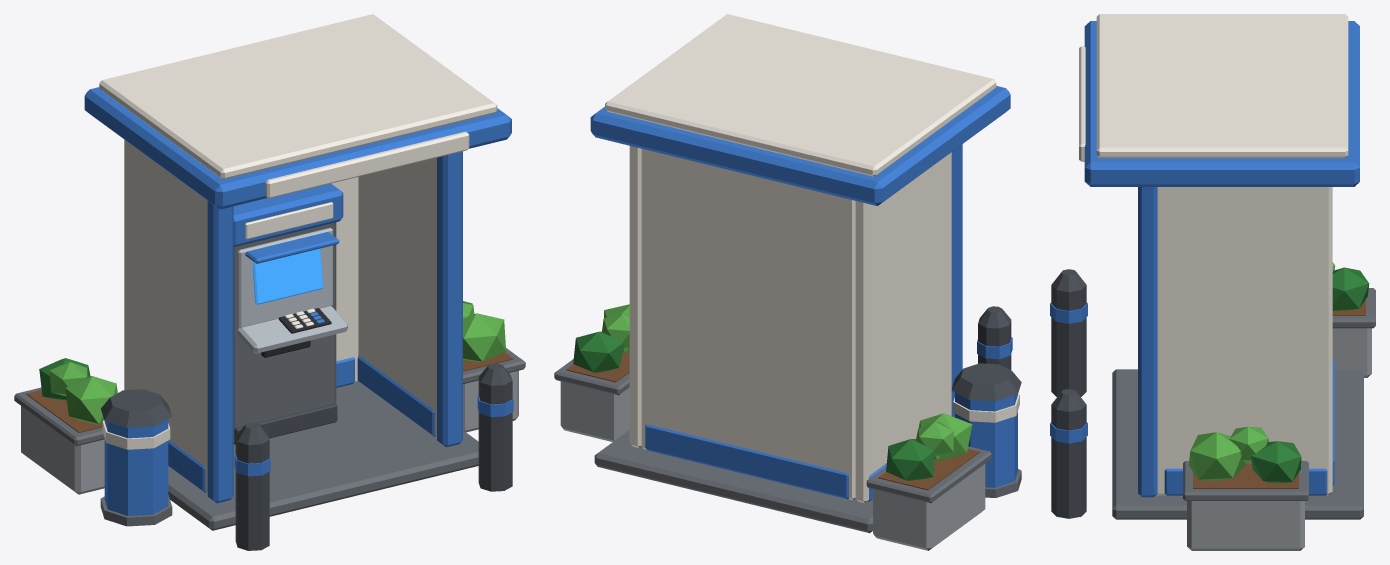
File: town-atm-booth.glb
3 renders of one model, left to right at view 1: azimuth 30°, elevation 25°; view 2: azimuth 150°, elevation 25°; view 3: azimuth 270°, elevation 25°, orthographic. The views are drawn at different scales.
Parts seen in each view (by area): view 1: Canopy_Cap, Wall_Side_L, Plinth, Wall_Side_R, Canopy, ATM_Body, Trim_Front_L, Trim_Front_R, Bin, Planter_Back, Sign_Blank, Wall_Back (+20 smaller); view 2: Wall_Back, Canopy_Cap, Wall_Side_L, Canopy, Plinth, Skirt_Back, Planter_Back, Wall_Side_R, Planter_R, Bin, Trim_Front_L, BinLid (+11 smaller); view 3: Wall_Side_R, Canopy_Cap, Canopy, Plinth, Trim_Front_R, Planter_R, Bollard_R, Bollard_L, Planter_R_Bush_A, Planter_R_Rim, Planter_Back, Planter_R_Bush_B (+10 smaller).
Part boxes in pixels (left/top/right/bottom): Canopy_Cap: left=99, top=14, right=497, bottom=179; Wall_Side_L: left=124, top=139, right=207, bottom=492; Plinth: left=168, top=381, right=478, bottom=530; Wall_Side_R: left=358, top=157, right=436, bottom=436; Canopy: left=84, top=87, right=511, bottom=209; ATM_Body: left=233, top=222, right=336, bottom=444; Trim_Front_L: left=207, top=201, right=233, bottom=503; Trim_Front_R: left=437, top=151, right=462, bottom=447; Bin: left=104, top=419, right=168, bottom=515; Planter_Back: left=21, top=406, right=104, bottom=494; Sign_Blank: left=265, top=131, right=469, bottom=198; Wall_Back: left=331, top=177, right=358, bottom=383; Wall_Back: left=641, top=149, right=855, bottom=500; Canopy_Cap: left=605, top=14, right=996, bottom=176; Wall_Side_L: left=855, top=152, right=951, bottom=503; Canopy: left=590, top=86, right=1010, bottom=205; Plinth: left=594, top=430, right=872, bottom=533; Skirt_Back: left=645, top=424, right=848, bottom=499; Planter_Back: left=873, top=464, right=985, bottom=550; Wall_Side_R: left=629, top=146, right=641, bottom=448; Planter_R: left=560, top=381, right=629, bottom=441; Bin: left=955, top=392, right=1017, bottom=487; Trim_Front_L: left=951, top=144, right=962, bottom=417; BinLid: left=951, top=363, right=1021, bottom=400; Wall_Side_R: left=1155, top=187, right=1332, bottom=495; Canopy_Cap: left=1096, top=14, right=1348, bottom=158; Canopy: left=1084, top=21, right=1359, bottom=186; Plinth: left=1112, top=369, right=1363, bottom=519; Trim_Front_R: left=1138, top=187, right=1157, bottom=497; Planter_R: left=1187, top=501, right=1304, bottom=550; Bollard_R: left=1051, top=405, right=1086, bottom=518; Bollard_L: left=1051, top=285, right=1086, bottom=396; Planter_R_Bush_A: left=1188, top=432, right=1245, bottom=480; Planter_R_Rim: left=1183, top=461, right=1308, bottom=500; Planter_Back: left=1332, top=328, right=1371, bottom=377; Planter_R_Bush_B: left=1250, top=441, right=1301, bottom=482.
Size of the model in its own units: 12.4 by 10.4 by 8.28.
